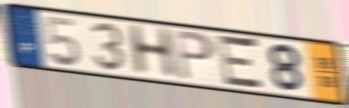3: (87, 21, 127, 73)
5: (43, 14, 82, 68)
8: (268, 42, 306, 93)
E: (217, 32, 267, 94)
H: (125, 22, 179, 79)
P: (172, 28, 218, 83)
